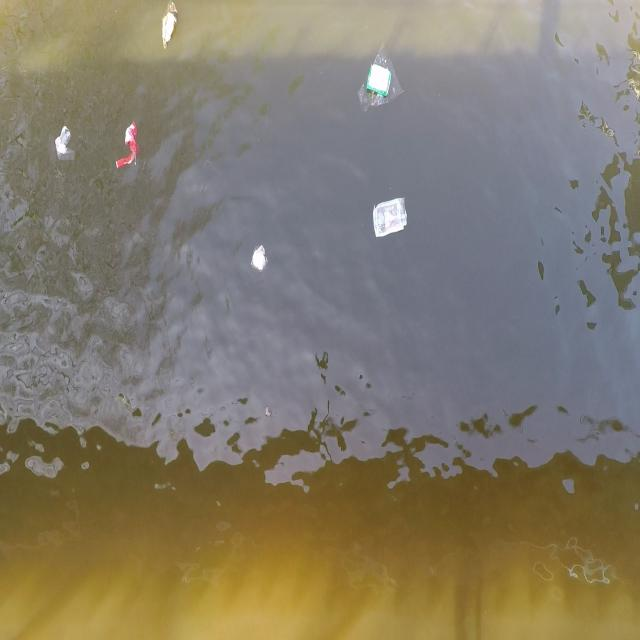Autre plastique: (362, 193, 412, 240), (365, 65, 394, 94)
Sac plastique: (114, 118, 144, 178), (51, 121, 82, 168), (247, 239, 274, 280)
